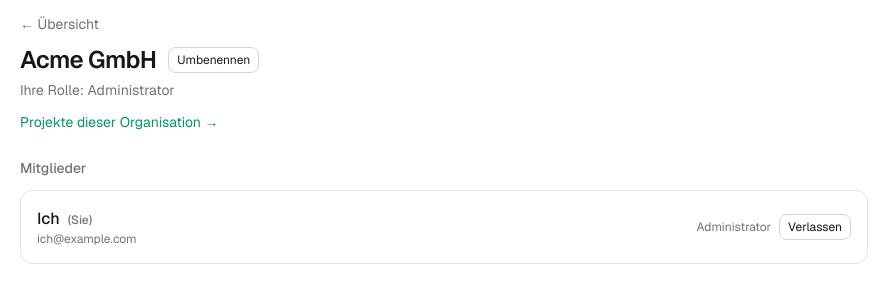
it: Organisationsdetailseite › Umbenennen › oeffnet das Formular erst auf Klick
expect the field labelled "Name der Organisation" is not shown: met
Click the button "Umbenennen".
click(214, 60)  # box [168, 47, 259, 73]
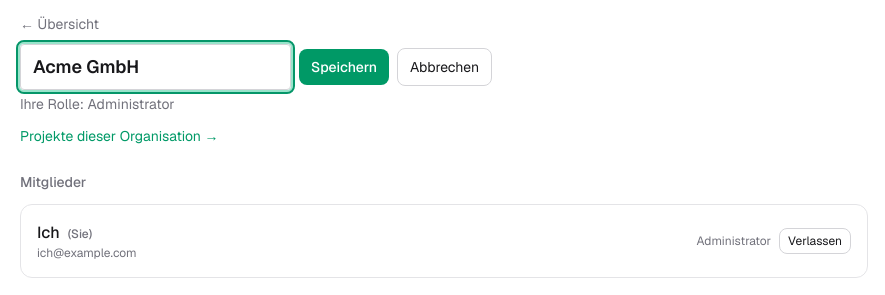
expect the field named "Name der Organisation" holds "Acme GmbH": met, box [20, 44, 291, 90]
